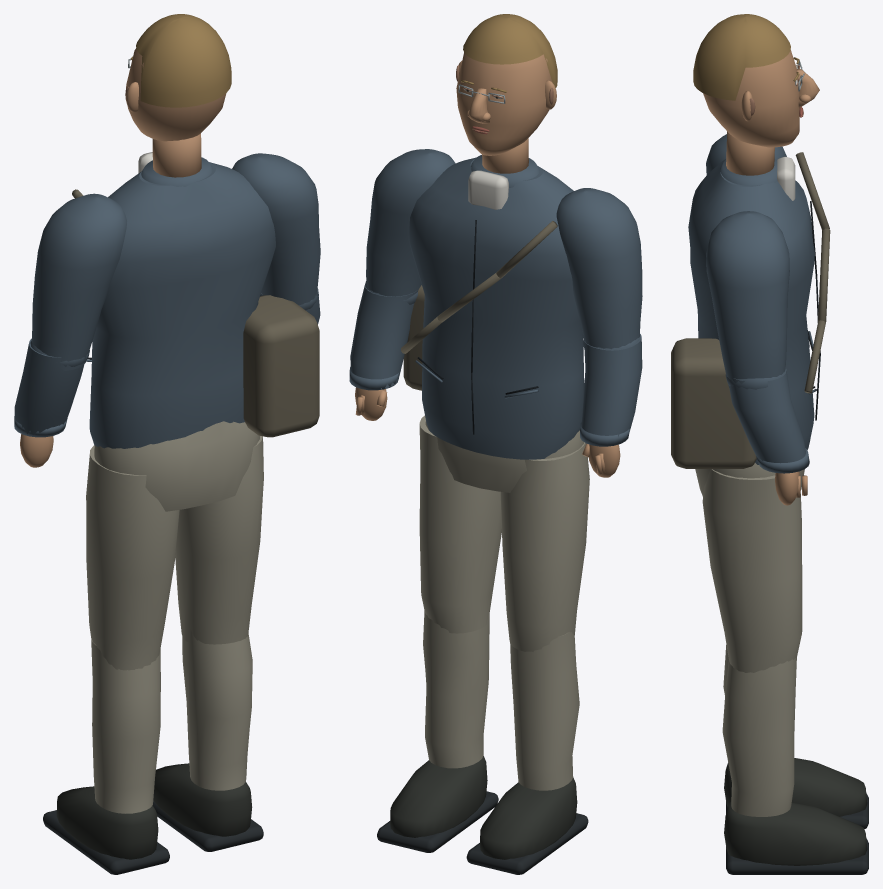
The model's file is pedestrian_3.glb.
The picture shows the model from 3 angles, left to right: view 1: azimuth 30°, elevation 25°; view 2: azimuth 150°, elevation 25°; view 3: azimuth 270°, elevation 25°; orthographic projection. The views are drawn at different scales.
Visible parts, largest first — view 1: torso_Coat fabric, leg_L_Denim trousers, head_Detailed human vertex surfaces, leg_R_Denim trousers, arm_L_Coat fabric, torso_Detailed human vertex surfaces, knee_L_Denim trousers, knee_R_Denim trousers, torso_Denim trousers, arm_R_Coat fabric, knee_L_Detailed human vertex surfaces, knee_R_Detailed human vertex surfaces (+2 smaller); view 2: torso_Coat fabric, leg_L_Denim trousers, leg_R_Denim trousers, head_Detailed human vertex surfaces, arm_L_Coat fabric, knee_L_Denim trousers, knee_R_Denim trousers, arm_R_Coat fabric, knee_R_Detailed human vertex surfaces, knee_L_Detailed human vertex surfaces, elbow_L_Coat fabric, elbow_R_Coat fabric (+4 smaller); view 3: leg_R_Denim trousers, head_Detailed human vertex surfaces, torso_Coat fabric, arm_R_Coat fabric, torso_Detailed human vertex surfaces, knee_R_Denim trousers, knee_R_Detailed human vertex surfaces, elbow_R_Coat fabric, knee_L_Detailed human vertex surfaces, elbow_R_Detailed human vertex surfaces, torso_Denim trousers, arm_L_Coat fabric.
Part boxes in pixels (x1,y1,x2,y2): torso_Coat fabric: (86, 157, 275, 448); leg_L_Denim trousers: (86, 445, 179, 670); head_Detailed human vertex surfaces: (125, 14, 231, 177); leg_R_Denim trousers: (175, 436, 263, 644); arm_L_Coat fabric: (31, 193, 126, 371); torso_Detailed human vertex surfaces: (72, 152, 319, 437); knee_L_Denim trousers: (91, 639, 160, 813); knee_R_Denim trousers: (182, 629, 252, 790); torso_Denim trousers: (94, 421, 259, 511); arm_R_Coat fabric: (232, 153, 320, 311); knee_L_Detailed human vertex surfaces: (43, 786, 169, 874); knee_R_Detailed human vertex surfaces: (152, 763, 263, 851); torso_Coat fabric: (408, 155, 584, 459); leg_L_Denim trousers: (500, 442, 589, 651); leg_R_Denim trousers: (419, 415, 501, 633); head_Detailed human vertex surfaces: (456, 14, 557, 173); arm_L_Coat fabric: (556, 188, 642, 349); knee_L_Denim trousers: (510, 632, 579, 790); knee_R_Denim trousers: (423, 611, 489, 768); arm_R_Coat fabric: (366, 149, 455, 305); knee_R_Detailed human vertex surfaces: (377, 756, 498, 852); knee_L_Detailed human vertex surfaces: (466, 777, 588, 874); elbow_L_Coat fabric: (580, 334, 642, 446); elbow_R_Coat fabric: (349, 281, 417, 390); leg_R_Denim trousers: (702, 469, 802, 672); head_Detailed human vertex surfaces: (693, 14, 819, 175); torso_Coat fabric: (688, 159, 816, 464); arm_R_Coat fabric: (706, 211, 789, 387); torso_Detailed human vertex surfaces: (671, 152, 830, 468); knee_R_Denim trousers: (722, 657, 796, 816); knee_R_Detailed human vertex surfaces: (724, 802, 868, 874); elbow_R_Coat fabric: (725, 367, 809, 473); knee_L_Detailed human vertex surfaces: (724, 758, 868, 828); elbow_R_Detailed human vertex surfaces: (775, 471, 807, 505); torso_Denim trousers: (695, 463, 804, 496); arm_L_Coat fabric: (706, 134, 786, 174).
Bounding box in the file's own units: 0.6405 × 1.77 × 0.385.
